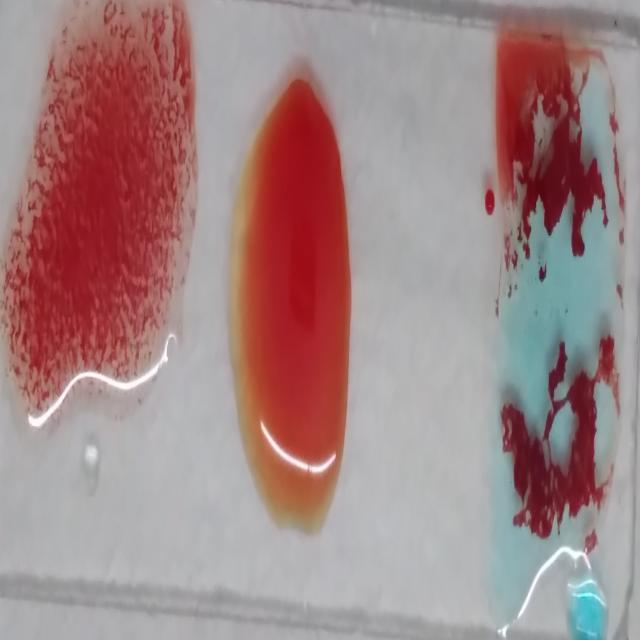A: (489, 30, 629, 600)
D: (22, 4, 190, 412)
